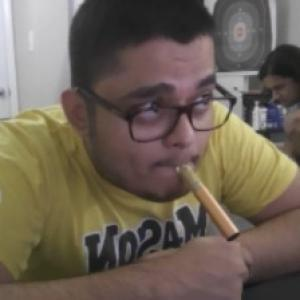Golden-E-Ciggirate: (178, 162, 242, 242)
